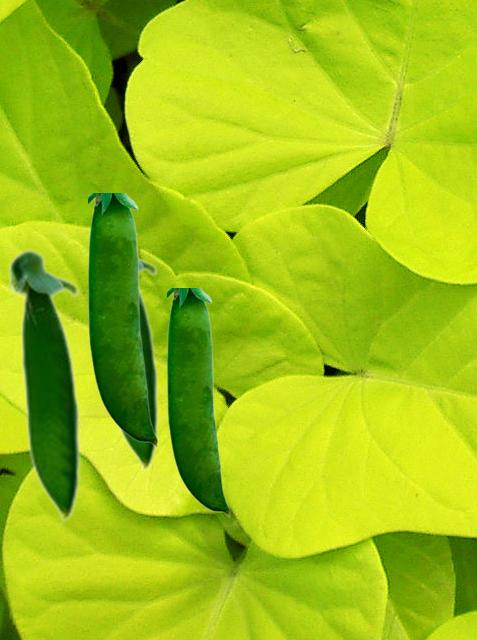pea: (6, 247, 80, 526), (88, 193, 157, 447), (167, 288, 229, 516), (113, 254, 158, 474)
